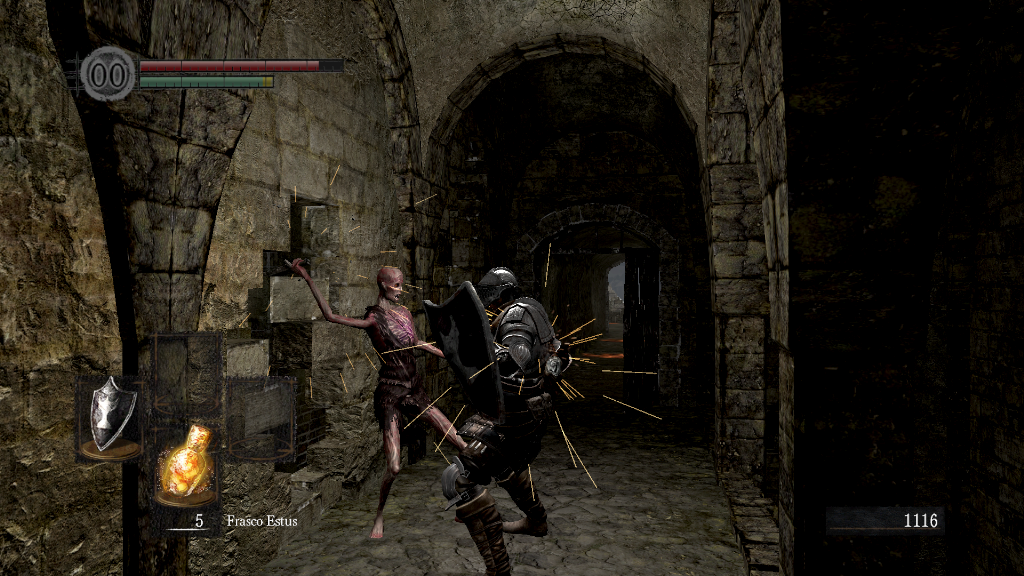health: (138, 58, 343, 71)
hollow: (275, 253, 487, 542)
humanity: (80, 45, 136, 102)
player: (422, 264, 574, 576)
souls: (825, 506, 945, 536)
stamina: (138, 74, 274, 88)
